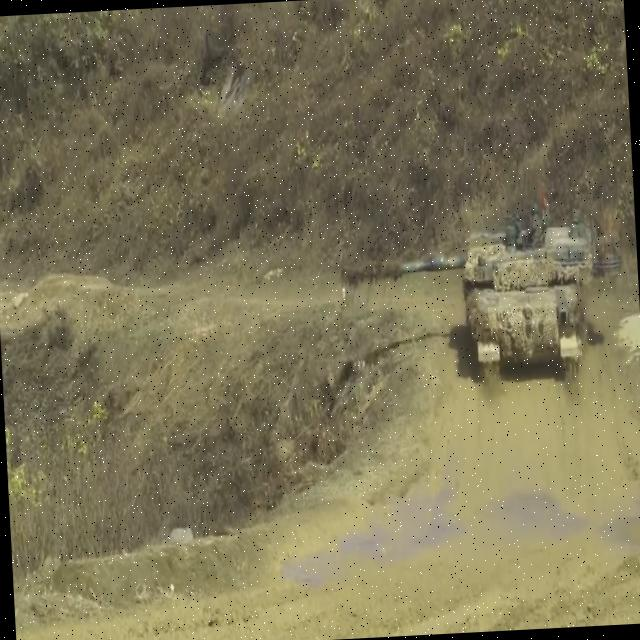korea tank: (338, 193, 630, 394)
